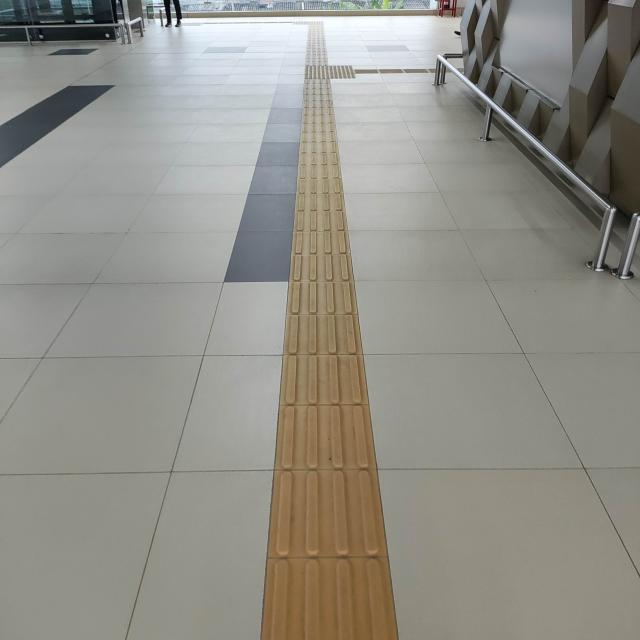lurus: (270, 85, 391, 640)
